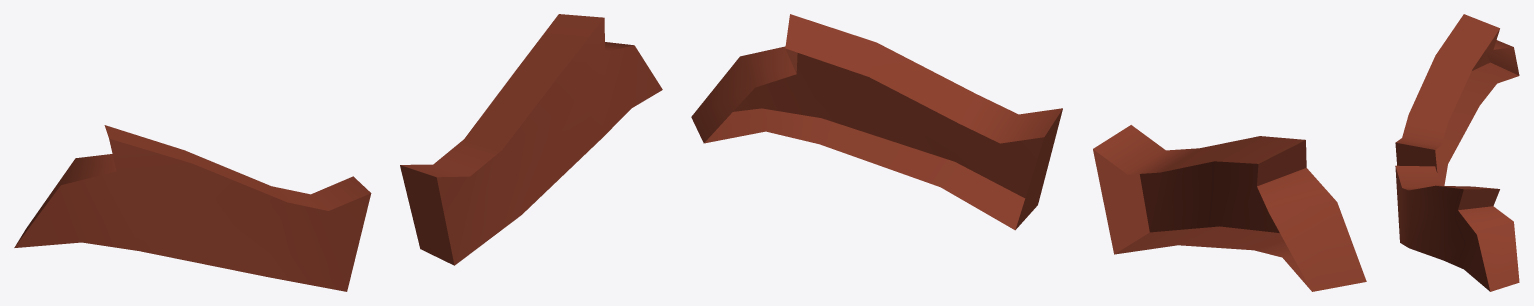
The model's file is Brow_Brown_7.fbx.
3 renders of one model, left to right at view 1: azimuth 30°, elevation 25°; view 2: azimuth 150°, elevation 25°; view 3: azimuth 270°, elevation 25°, orthographic. The views are drawn at different scales.
Visible parts, largest first — view 1: Brow_Brown_7; view 2: Brow_Brown_7; view 3: Brow_Brown_7.
Part boxes in pixels (left/top/right/bottom): Brow_Brown_7: left=14, top=14, right=662, bottom=291; Brow_Brown_7: left=691, top=14, right=1366, bottom=291; Brow_Brown_7: left=1395, top=14, right=1519, bottom=291.
Size of the model in its own units: 38.5 by 9.68 by 8.8.
